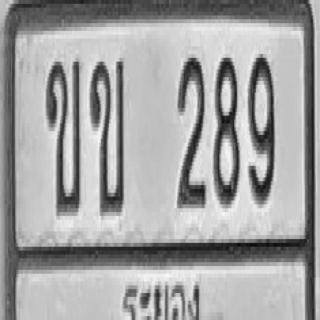A02: (46, 58, 81, 212), (90, 58, 124, 212)
N02: (177, 54, 206, 204)
N08: (213, 54, 239, 204)
N09: (248, 52, 275, 202)
P53: (120, 271, 201, 320)
